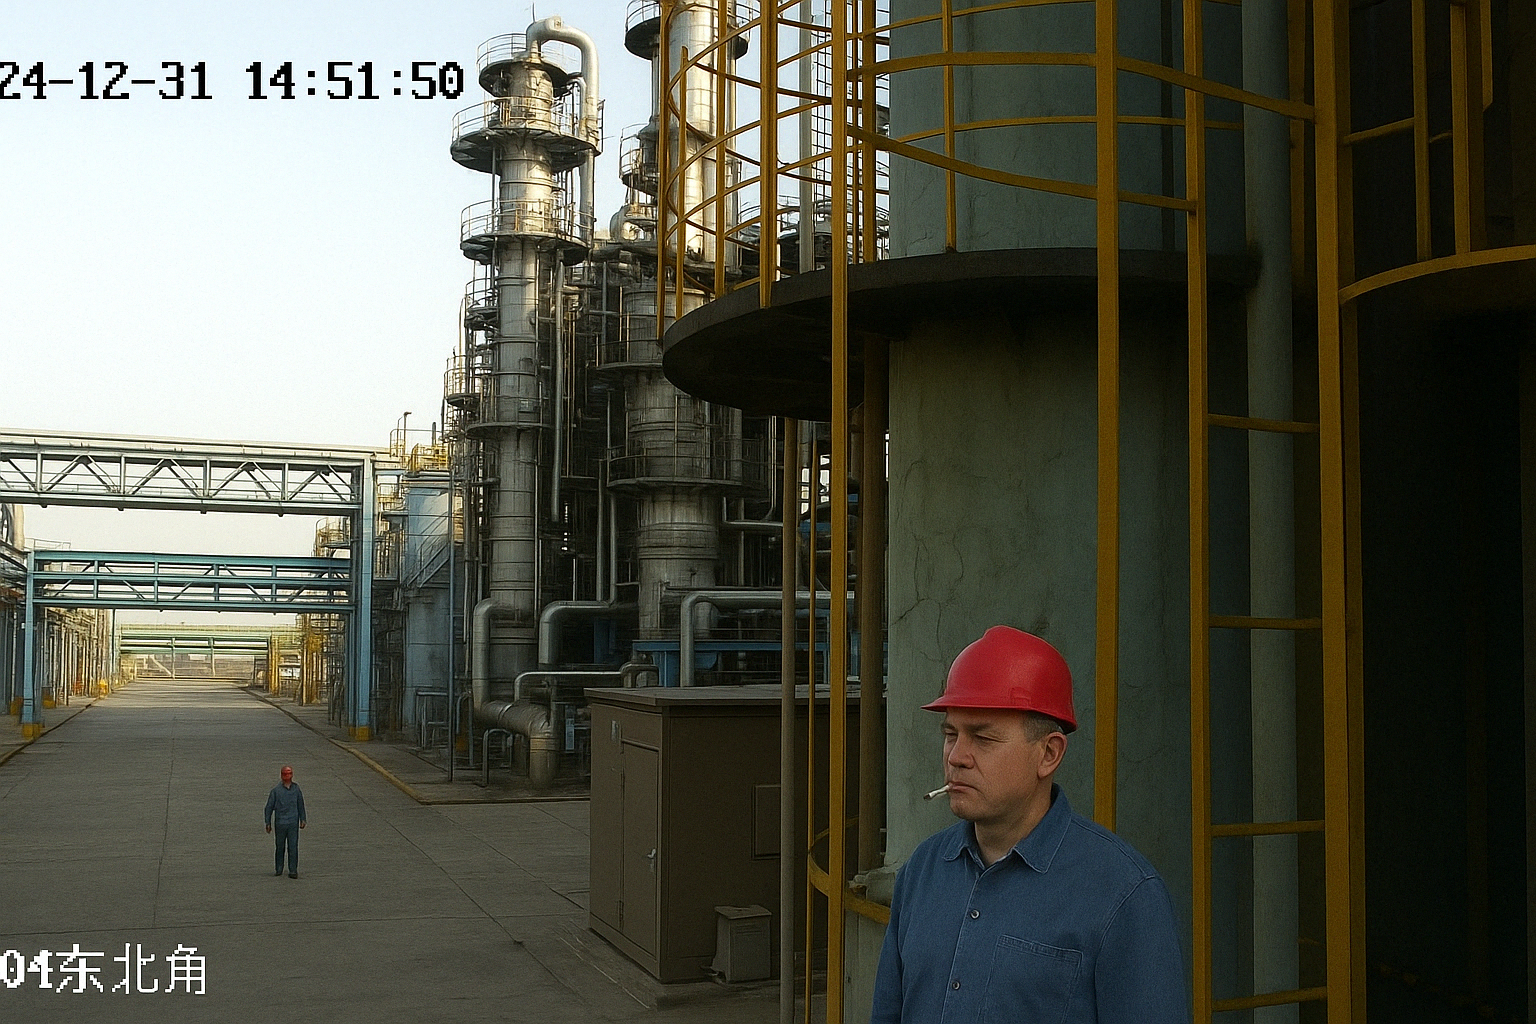smoking: (918, 768, 968, 809)
